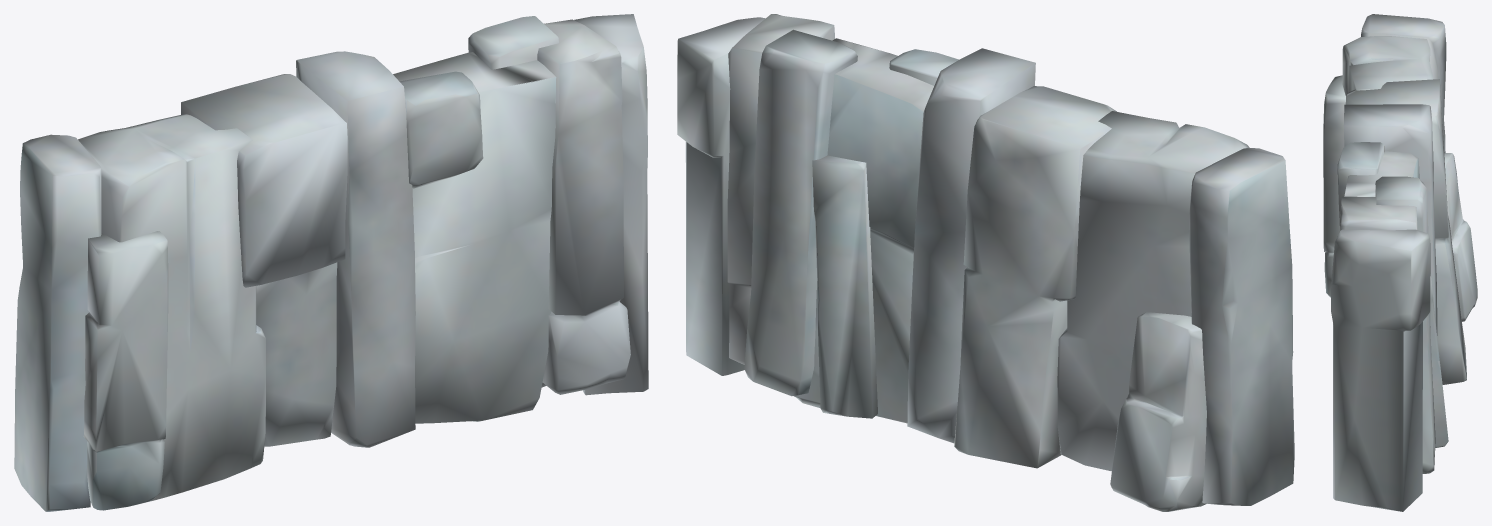
The model's file is P_CubicCliff09.obj.
3 renders of one model, left to right at view 1: azimuth 30°, elevation 25°; view 2: azimuth 150°, elevation 25°; view 3: azimuth 270°, elevation 25°, orthographic. The views are drawn at different scales.
Size of the model in its own units: 38.77 by 22.28 by 10.66.
